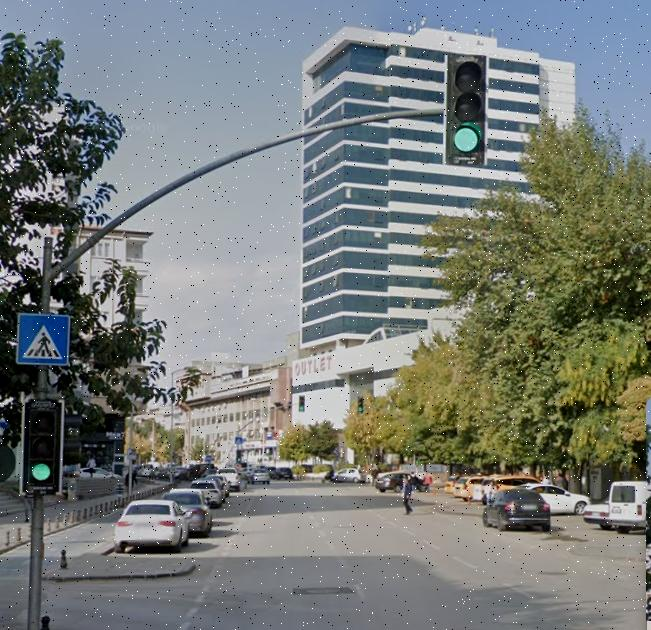greenlight: (446, 52, 482, 158), (23, 398, 60, 491)
